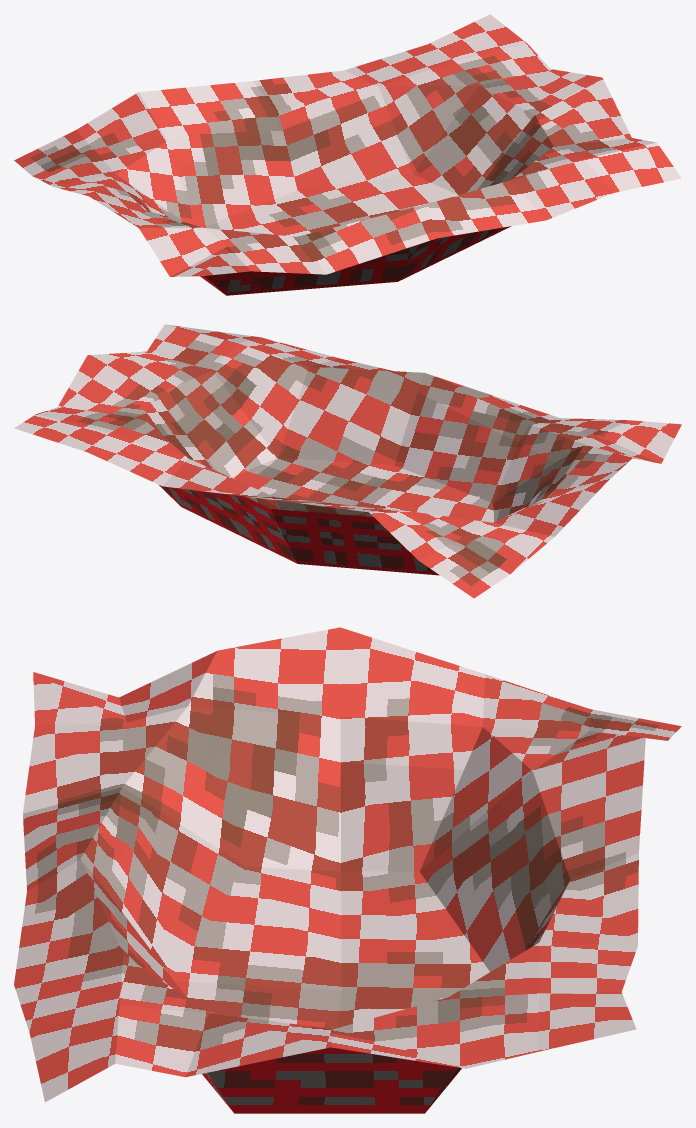
File: EmptyBasket.fbx
The picture shows the model from 3 angles, top to bottom: view 1: azimuth 30°, elevation 25°; view 2: azimuth 150°, elevation 25°; view 3: azimuth 270°, elevation 25°; orthographic projection. The views are drawn at different scales.
Visible parts, largest first — view 1: Food Basket.003; view 2: Food Basket.003; view 3: Food Basket.003.
Part boxes in pixels (x1,y1,x2,y2): Food Basket.003: [14, 14, 681, 295]; Food Basket.003: [14, 324, 681, 598]; Food Basket.003: [14, 627, 681, 1113].
Bounding box in the file's own units: 54.95 × 10.72 × 37.47.
